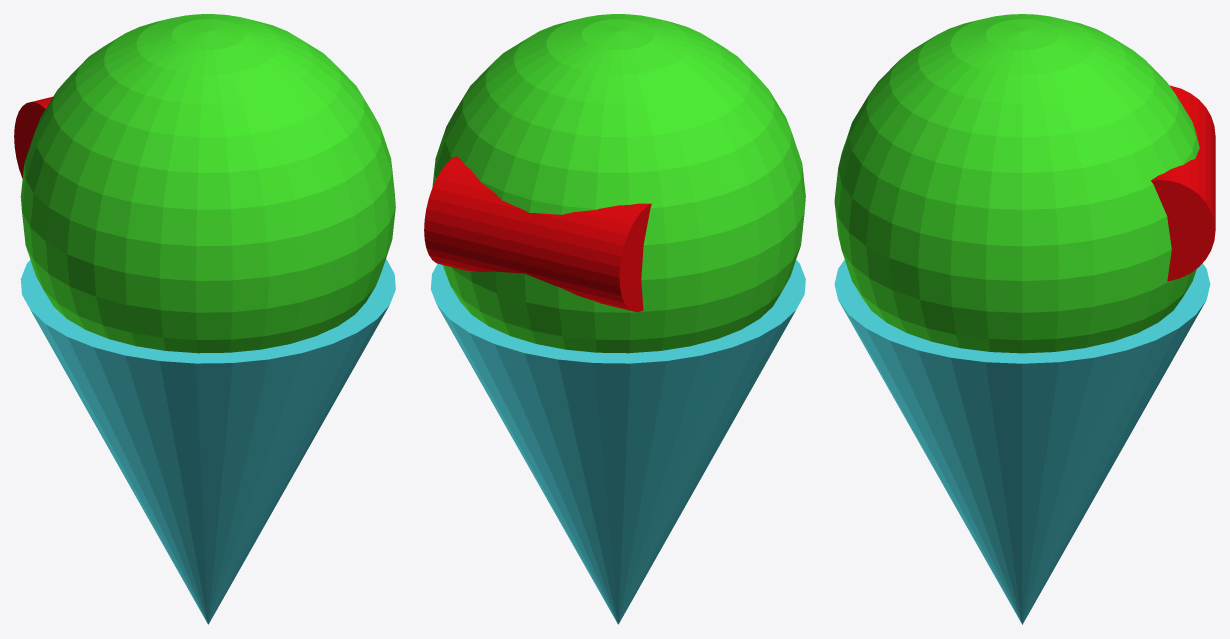
Rendered from Teki.fbx.
3 renders of one model, left to right at view 1: azimuth 30°, elevation 25°; view 2: azimuth 150°, elevation 25°; view 3: azimuth 270°, elevation 25°, orthographic.
Parts seen in each view (by area): view 1: 球, 円錐, 円柱; view 2: 球, 円錐, 円柱; view 3: 球, 円錐, 円柱.
Part boxes in pixels (x1,y1,x2,y2): 球: [20, 14, 395, 353]; 円錐: [20, 259, 395, 624]; 円柱: [14, 96, 52, 178]; 球: [432, 14, 805, 353]; 円錐: [430, 260, 805, 624]; 円柱: [424, 156, 651, 312]; 球: [834, 14, 1199, 353]; 円錐: [834, 260, 1210, 624]; 円柱: [1151, 85, 1215, 281].
Bounding box in the file's own units: 200 × 348 × 203.
